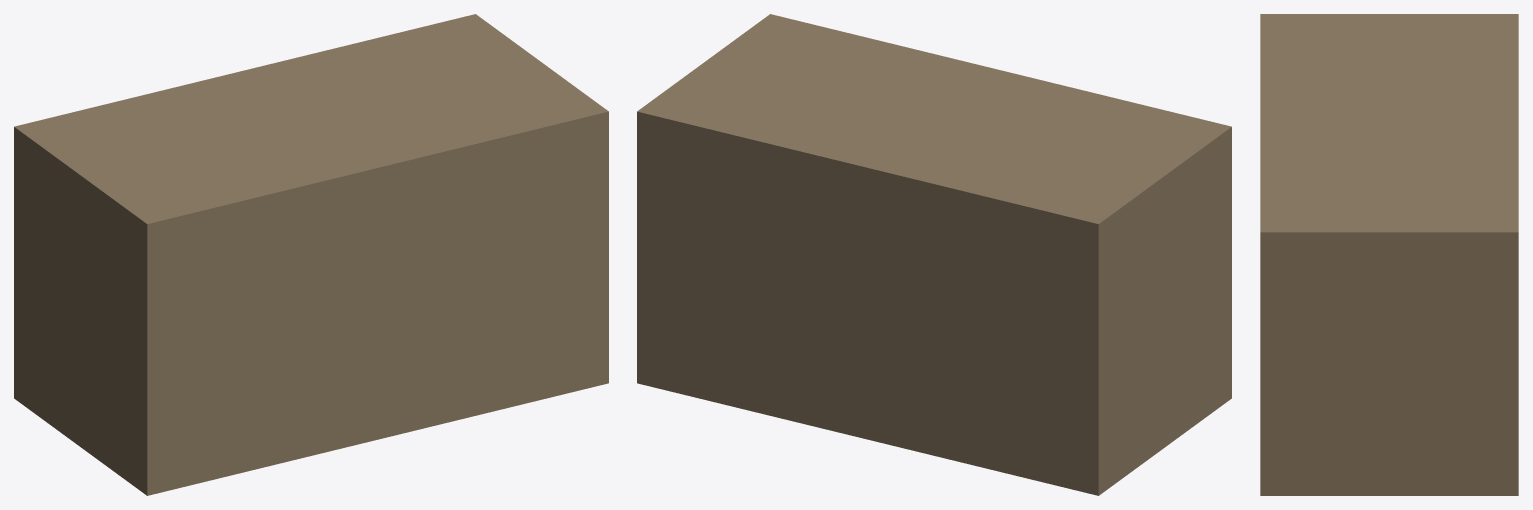
File: SM_BSW_PROBE_P12_M12.obj
3 views of the same model, side by side, from view 1: azimuth 30°, elevation 25°; view 2: azimuth 150°, elevation 25°; view 3: azimuth 270°, elevation 25° (orthographic). The views are drawn at different scales.
Parts seen in each view (by area): view 1: SM_BSW_PROBE_P12_M12; view 2: SM_BSW_PROBE_P12_M12; view 3: SM_BSW_PROBE_P12_M12.
Boxes of the visible parts, bbox=[...] form: SM_BSW_PROBE_P12_M12: bbox=[14, 14, 608, 495]; SM_BSW_PROBE_P12_M12: bbox=[637, 14, 1231, 495]; SM_BSW_PROBE_P12_M12: bbox=[1260, 14, 1518, 495].
Size of the model in its own units: 160 by 90 by 80.
